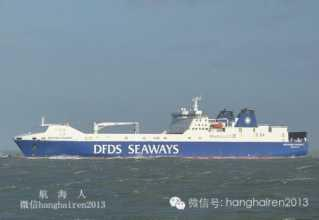Cargoship: (8, 90, 313, 159)
